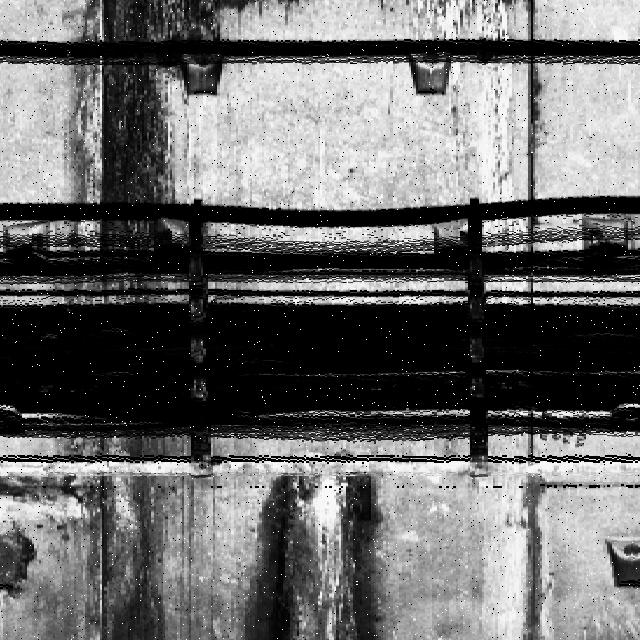leakage: (48, 1, 212, 304), (232, 471, 397, 640), (69, 439, 169, 640), (505, 476, 560, 640)
